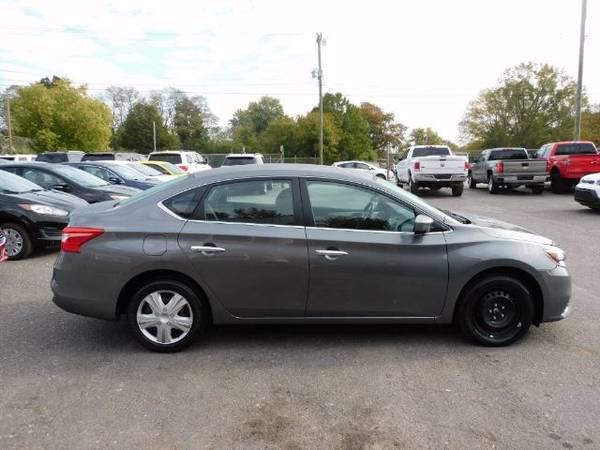Front_Bumper: (534, 257, 573, 319)
Front_Fender: (437, 228, 554, 322)
Front_Right_Door: (302, 226, 445, 320)
Front_Right_Window: (297, 178, 443, 233)
Hood: (455, 213, 556, 245)
Rear_Bumper: (50, 251, 130, 322)
Rear_Fender: (68, 185, 205, 275)
Rear_Right_Door: (179, 221, 309, 323)
Rear_Right_Window: (185, 177, 303, 227)
Right_Headlight: (541, 244, 564, 261)
Right_Taillight: (61, 225, 103, 253)
Roof: (87, 164, 459, 231)
Wheel: (127, 279, 207, 355), (465, 274, 539, 348)
